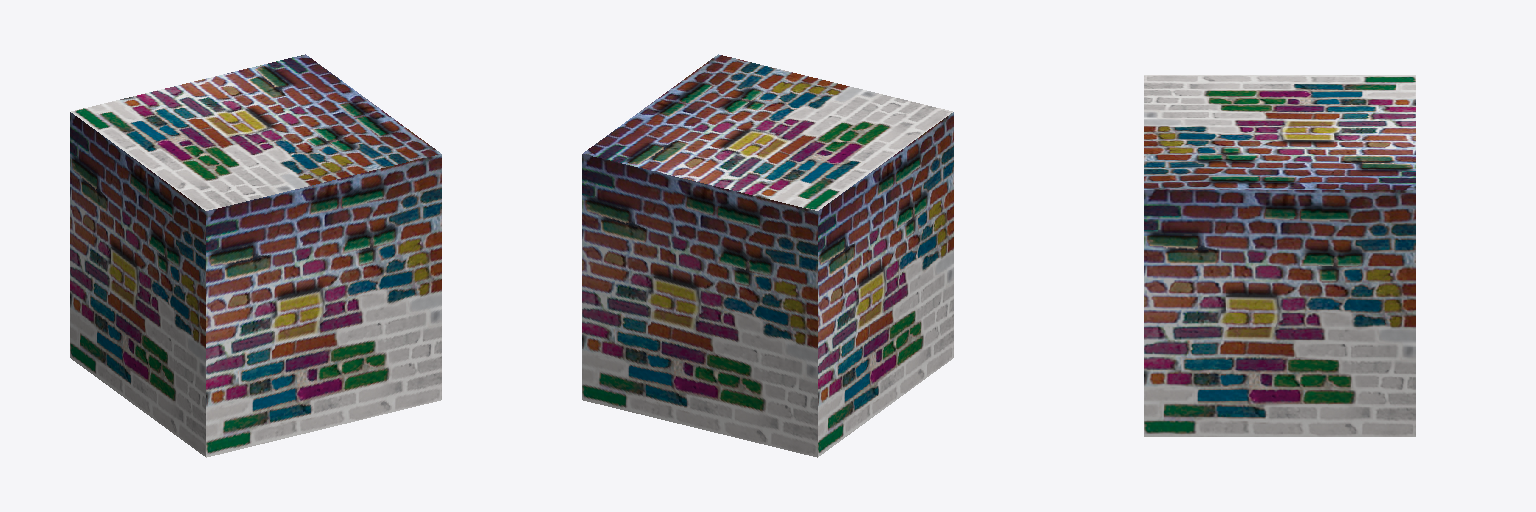
The picture shows the model from 3 angles: view 1: azimuth 30°, elevation 25°; view 2: azimuth 150°, elevation 25°; view 3: azimuth 270°, elevation 25°; orthographic projection.
Visible parts, largest first — view 1: Cube_Cube.001; view 2: Cube_Cube.001; view 3: Cube_Cube.001.
Boxes of the visible parts, x1,y1,x2,y2 form: Cube_Cube.001: [70, 54, 441, 457]; Cube_Cube.001: [582, 54, 953, 457]; Cube_Cube.001: [1144, 75, 1415, 436].
Size of the model in its own units: 2 by 2 by 2.
1 materials, 1 textured.